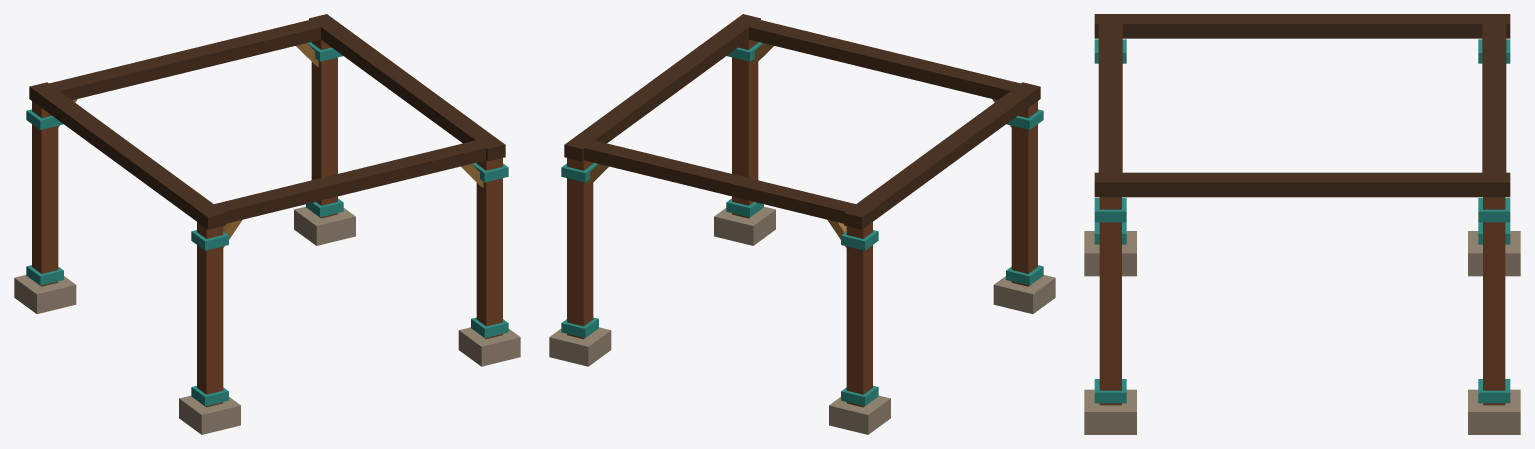
Rendered from Tropical_LagoonPavilion_Standard.glb.
The picture shows the model from 3 angles, left to right: view 1: azimuth 30°, elevation 25°; view 2: azimuth 150°, elevation 25°; view 3: azimuth 270°, elevation 25°; orthographic projection. The views are drawn at different scales.
Parts seen in each view (by area): view 1: Tropical_LagoonPavilion_Standard; view 2: Tropical_LagoonPavilion_Standard; view 3: Tropical_LagoonPavilion_Standard.
Part boxes in pixels (x1,y1,x2,y2): Tropical_LagoonPavilion_Standard: [14, 14, 520, 434]; Tropical_LagoonPavilion_Standard: [549, 14, 1055, 434]; Tropical_LagoonPavilion_Standard: [1084, 14, 1520, 434].
Bounding box in the file's own units: 5.36 × 3.4 × 5.46.
